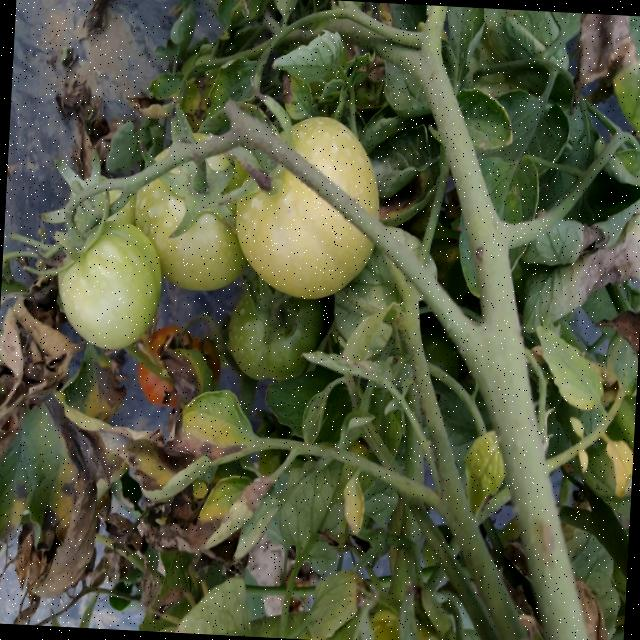Unripe: (230, 110, 384, 308), (52, 213, 163, 354)
